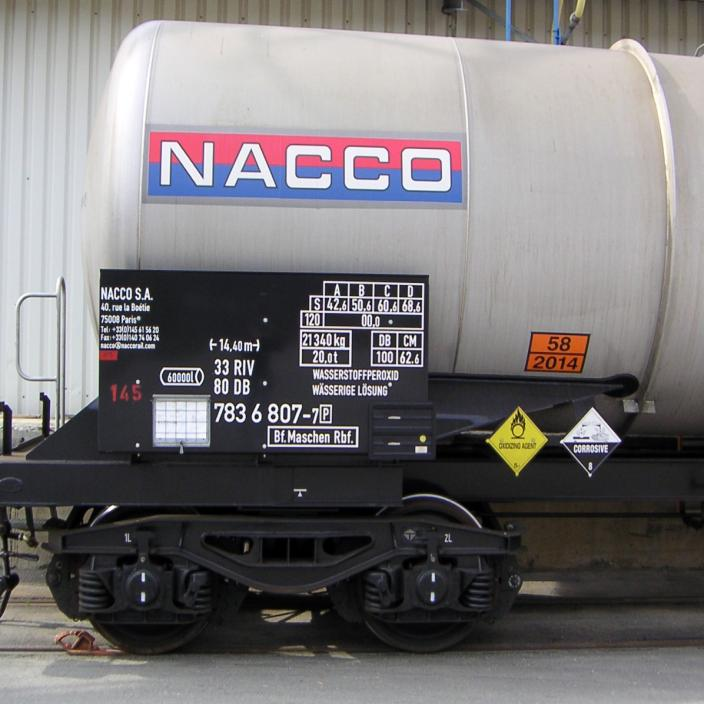defibrillator: (486, 407, 547, 476)
elevator buttons: (560, 407, 620, 476)
